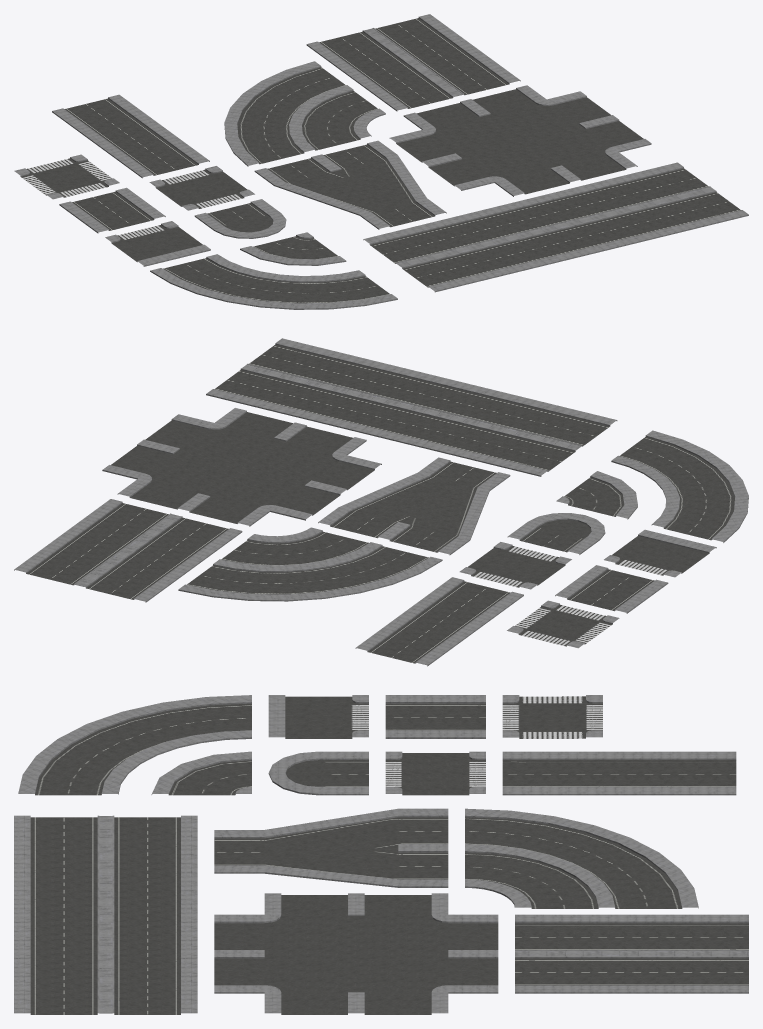
The model's file is ModularRoads.fbx.
The picture shows the model from 3 angles, top to bottom: view 1: azimuth 30°, elevation 25°; view 2: azimuth 150°, elevation 25°; view 3: azimuth 270°, elevation 25°; orthographic projection. The views are drawn at different scales.
Parts seen in each view (by area): view 1: 4Lane-Long, 4Lane-Intersection, 4Lane-Short, 4Lane-Turn, 4Lane-to-2Lane, 2Lane-Long-Turn, 2Lane-Long, 2Lane-Short, 2Lane-T-Connector, 2Lane-Intersection-4Crosswalk, 2Lane-2Crosswalk, 2Lane-U-Turn (+1 smaller); view 2: 4Lane-Long, 4Lane-Intersection, 4Lane-Short, 4Lane-Turn, 4Lane-to-2Lane, 2Lane-Long-Turn, 2Lane-Long, 2Lane-T-Connector, 2Lane-Short, 2Lane-2Crosswalk, 2Lane-Intersection-4Crosswalk, 2Lane-U-Turn (+1 smaller); view 3: 4Lane-Long, 4Lane-Intersection, 4Lane-Short, 4Lane-Turn, 4Lane-to-2Lane, 2Lane-Long-Turn, 2Lane-Long, 2Lane-Short, 2Lane-2Crosswalk, 2Lane-Intersection-4Crosswalk, 2Lane-T-Connector, 2Lane-U-Turn (+1 smaller).
Part boxes in pixels (box(x1,y1,x2,y2)): 4Lane-Long: box(363, 162, 748, 292); 4Lane-Intersection: box(389, 85, 651, 196); 4Lane-Short: box(306, 14, 520, 111); 4Lane-Turn: box(224, 61, 385, 166); 4Lane-to-2Lane: box(254, 140, 446, 229); 2Lane-Long-Turn: box(150, 254, 397, 309); 2Lane-Long: box(52, 94, 209, 178); 2Lane-Short: box(59, 187, 165, 233); 2Lane-T-Connector: box(105, 221, 210, 266); 2Lane-Intersection-4Crosswalk: box(14, 154, 119, 199); 2Lane-2Crosswalk: box(149, 166, 254, 210); 2Lane-U-Turn: box(194, 199, 286, 238); 4Lane-Long: box(206, 338, 617, 476); 4Lane-Intersection: box(102, 408, 381, 526); 4Lane-Short: box(14, 499, 242, 602); 4Lane-Turn: box(178, 527, 442, 601); 4Lane-to-2Lane: box(318, 457, 510, 555); 2Lane-Long-Turn: box(611, 430, 748, 542); 2Lane-Long: box(355, 577, 523, 666); 2Lane-T-Connector: box(604, 529, 716, 577); 2Lane-Short: box(555, 565, 668, 613); 2Lane-2Crosswalk: box(459, 542, 571, 589); 2Lane-Intersection-4Crosswalk: box(507, 600, 619, 648); 2Lane-U-Turn: box(507, 513, 605, 554); 4Lane-Long: box(14, 815, 197, 1014); 4Lane-Intersection: box(214, 893, 498, 1014); 4Lane-Short: box(515, 914, 748, 993); 4Lane-Turn: box(465, 808, 698, 908); 4Lane-to-2Lane: box(214, 808, 448, 887); 2Lane-Long-Turn: box(18, 695, 251, 795); 2Lane-Long: box(502, 751, 736, 795); 2Lane-Short: box(385, 695, 485, 738); 2Lane-2Crosswalk: box(385, 751, 485, 795); 2Lane-Intersection-4Crosswalk: box(502, 695, 602, 738); 2Lane-T-Connector: box(268, 695, 368, 738); 2Lane-U-Turn: box(268, 751, 368, 795).
Size of the model in its own units: 9020 by 20.1 by 8800.
